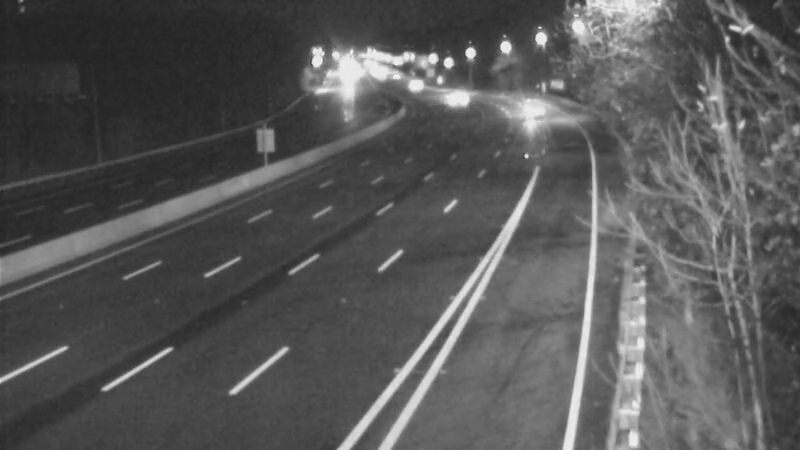vehicle: (392, 59, 442, 109), (425, 74, 475, 124), (508, 90, 558, 140)
